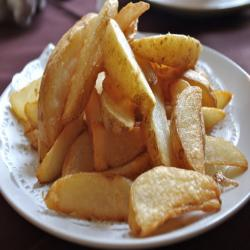fries: (9, 1, 250, 243)
